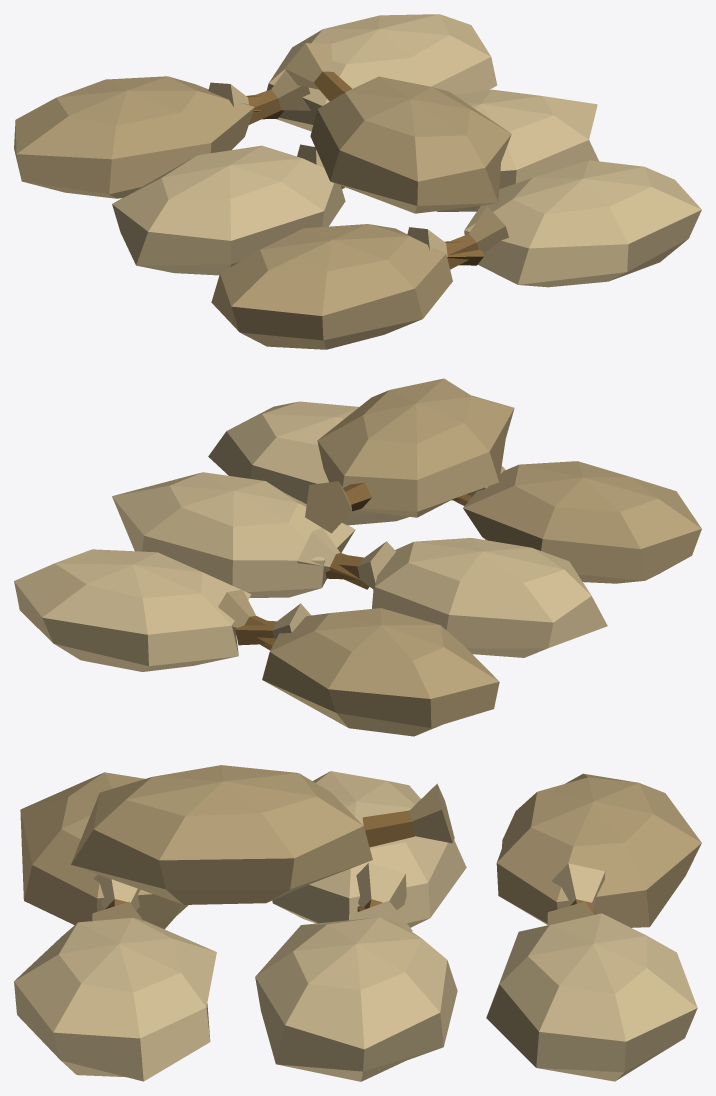
The model's file is pile_sacks_2.glb.
3 views of the same model, one above another, from view 1: azimuth 30°, elevation 25°; view 2: azimuth 150°, elevation 25°; view 3: azimuth 270°, elevation 25° (orthographic). The views are drawn at different scales.
Parts seen in each view (by area): view 1: pile_sacks_2; view 2: pile_sacks_2; view 3: pile_sacks_2.
Part boxes in pixels (x1=…): pile_sacks_2: x1=14, y1=14, x2=701, y2=349; pile_sacks_2: x1=14, y1=378, x2=701, y2=736; pile_sacks_2: x1=14, y1=765, x2=701, y2=1081.
Size of the model in its own units: 1.38 by 0.461 by 1.45.
